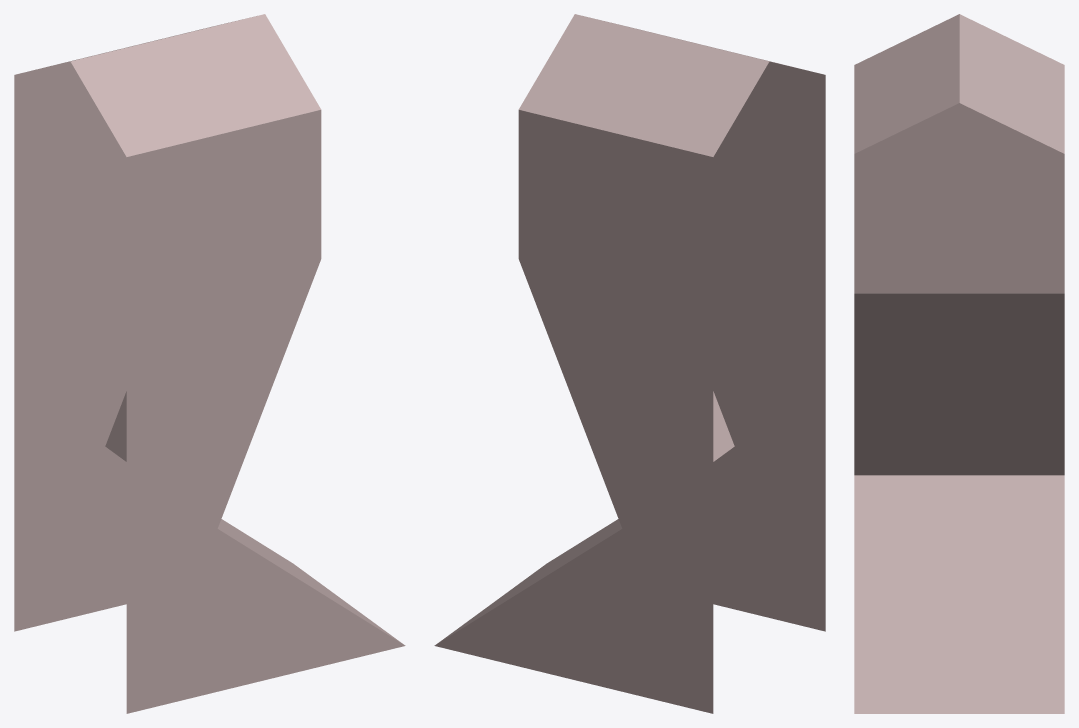
Rendered from BRailEnd.fbx.
3 views of the same model, side by side, from view 1: azimuth 30°, elevation 25°; view 2: azimuth 150°, elevation 25°; view 3: azimuth 270°, elevation 25° (orthographic). The views are drawn at different scales.
Visible parts, largest first — view 1: BRailEnd; view 2: BRailEnd; view 3: BRailEnd.
Part boxes in pixels (x1=…): BRailEnd: x1=14, y1=14, x2=405, y2=713; BRailEnd: x1=434, y1=14, x2=825, y2=713; BRailEnd: x1=854, y1=14, x2=1064, y2=713.
Size of the model in its own units: 71.67 by 150 by 50.
